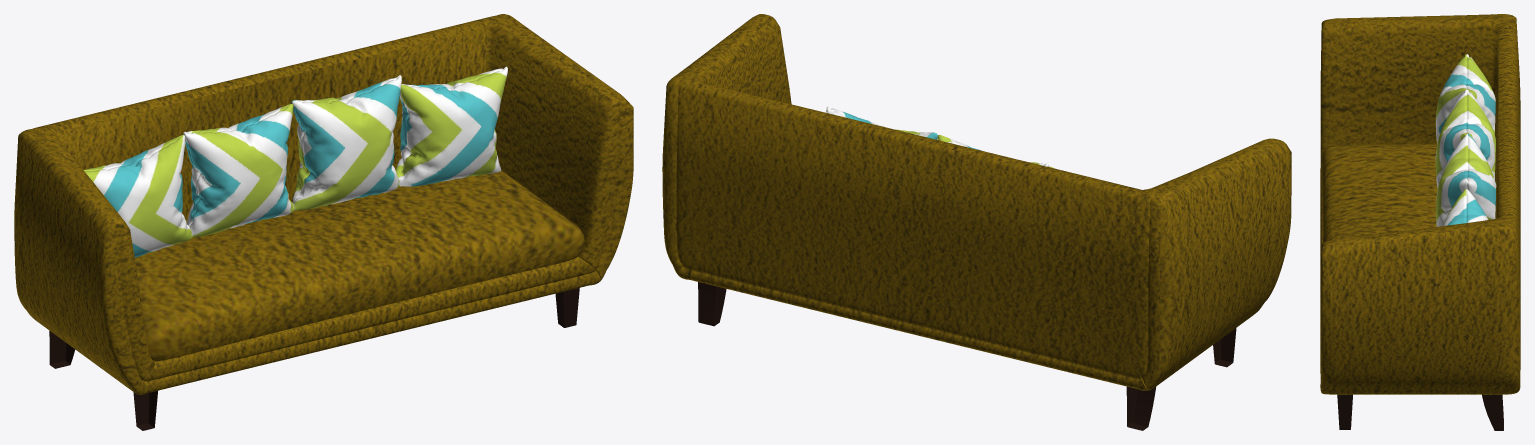
3 views of the same model, side by side, from view 1: azimuth 30°, elevation 25°; view 2: azimuth 150°, elevation 25°; view 3: azimuth 270°, elevation 25° (orthographic). The views are drawn at different scales.
Visible parts, largest first — view 1: couch, seat, pillow_03_geo, Legs_01_geo; view 2: couch, Legs_01_geo, pillow_03_geo; view 3: couch, seat, pillow_03_geo, Legs_01_geo.
Boxes of the visible parts, x1=… form: couch: x1=14, y1=14, x2=633, y2=394; seat: x1=135, y1=170, x2=584, y2=361; pillow_03_geo: x1=83, y1=66, x2=507, y2=257; Legs_01_geo: x1=49, y1=287, x2=579, y2=430; couch: x1=662, y1=14, x2=1291, y2=390; Legs_01_geo: x1=698, y1=282, x2=1236, y2=430; pillow_03_geo: x1=826, y1=106, x2=1054, y2=168; couch: x1=1320, y1=14, x2=1520, y2=394; seat: x1=1321, y1=144, x2=1437, y2=242; pillow_03_geo: x1=1435, y1=54, x2=1496, y2=226; Legs_01_geo: x1=1337, y1=394, x2=1503, y2=430.
Bounding box in the file's own units: 2.09 × 0.8929 × 0.7535.
Materials: 4 (3 with a texture image).
